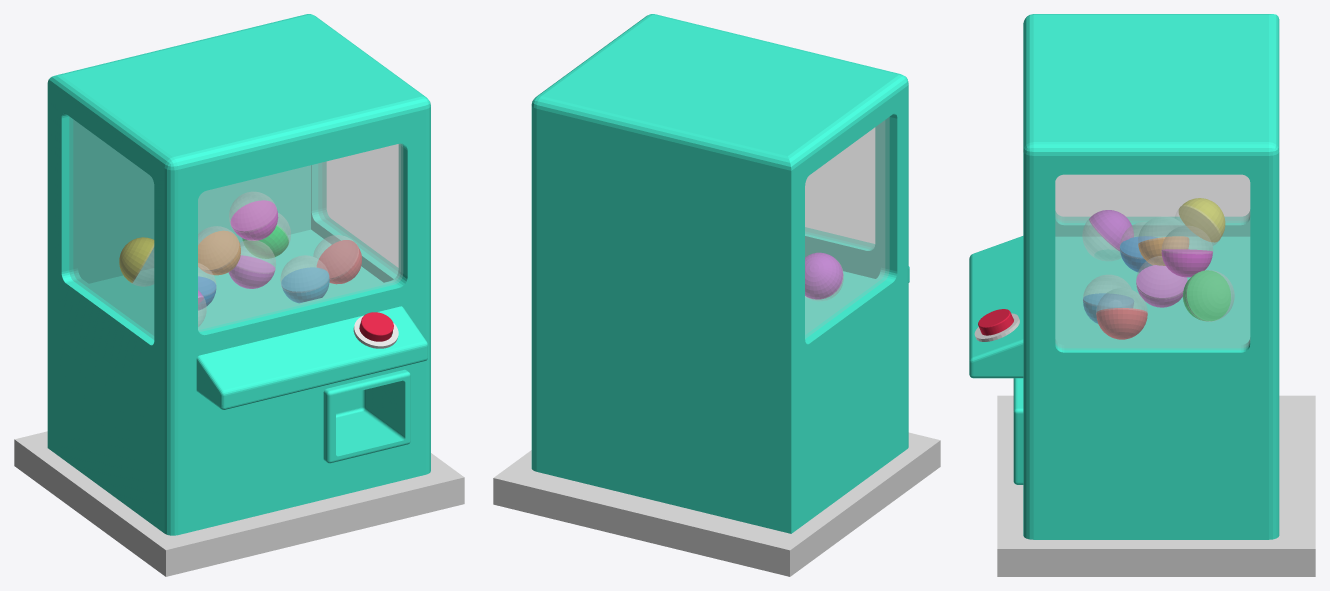
File: dispenser.glb
3 renders of one model, left to right at view 1: azimuth 30°, elevation 25°; view 2: azimuth 150°, elevation 25°; view 3: azimuth 270°, elevation 25°, orthographic. The views are drawn at different scales.
Visible parts, largest first — view 1: 몸통, glass, 발판, glass.001, glass.002, Sphere.002, Sphere.016, Sphere.008, Sphere.010, Sphere.005, Sphere.012, Sphere.006 (+2 smaller); view 2: 몸통, 발판, glass.001, glass, Sphere.014; view 3: 몸통, glass.002, 발판, glass.001, Sphere.006, Sphere.005, Sphere.012, Sphere.008, Sphere.016, Sphere.014, Sphere.017, Sphere.002 (+7 smaller).
Part boxes in pixels (<box>): 몸통: <box>47,14,430,535</box>; glass: <box>198,143,402,331</box>; 발판: <box>14,431,464,576</box>; glass.001: <box>69,117,154,339</box>; glass.002: <box>322,144,398,271</box>; Sphere.002: <box>198,231,240,275</box>; Sphere.016: <box>231,200,278,240</box>; Sphere.008: <box>317,240,361,284</box>; Sphere.010: <box>281,267,329,303</box>; Sphere.005: <box>228,255,274,288</box>; Sphere.012: <box>119,237,154,282</box>; Sphere.006: <box>242,225,288,258</box>; 몸통: <box>531,14,909,533</box>; 발판: <box>493,432,940,576</box>; glass.001: <box>805,117,889,338</box>; glass: <box>805,128,874,247</box>; Sphere.014: <box>805,252,842,299</box>; 몸통: <box>969,14,1279,539</box>; glass.002: <box>1055,174,1250,349</box>; 발판: <box>997,395,1315,576</box>; glass.001: <box>1055,175,1249,220</box>; Sphere.006: <box>1183,270,1230,320</box>; Sphere.005: <box>1136,265,1186,307</box>; Sphere.012: <box>1179,198,1225,242</box>; Sphere.008: <box>1096,308,1147,339</box>; Sphere.016: <box>1161,249,1212,277</box>; Sphere.014: <box>1089,210,1133,250</box>; Sphere.017: <box>1162,226,1212,253</box>; Sphere.002: <box>1138,236,1188,265</box>.
Size of the model in its own units: 2.83 by 3.63 by 2.7.
